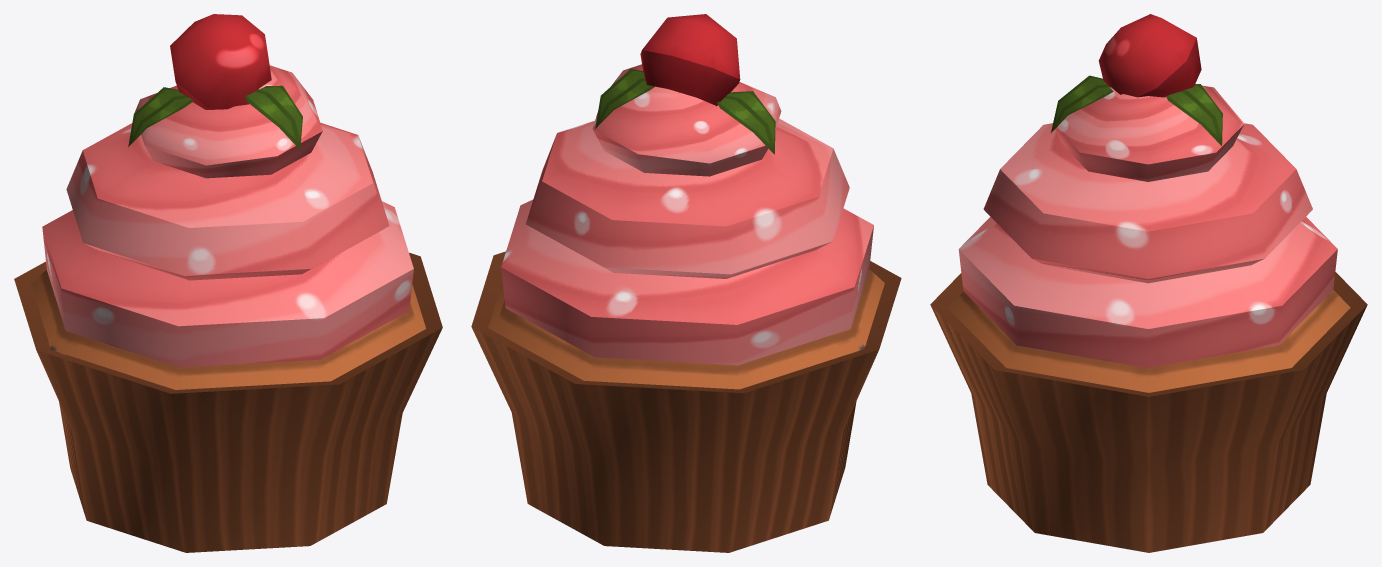
Rendered from cup cake.FBX.
3 renders of one model, left to right at view 1: azimuth 30°, elevation 25°; view 2: azimuth 150°, elevation 25°; view 3: azimuth 270°, elevation 25°, orthographic.
Parts seen in each view (by area): view 1: cup cake; view 2: cup cake; view 3: cup cake.
Part boxes in pixels (x1,y1,x2,y2): cup cake: [14, 14, 442, 552]; cup cake: [471, 14, 901, 552]; cup cake: [930, 14, 1367, 552].
Size of the model in its own units: 5.08 by 5.93 by 5.08.
